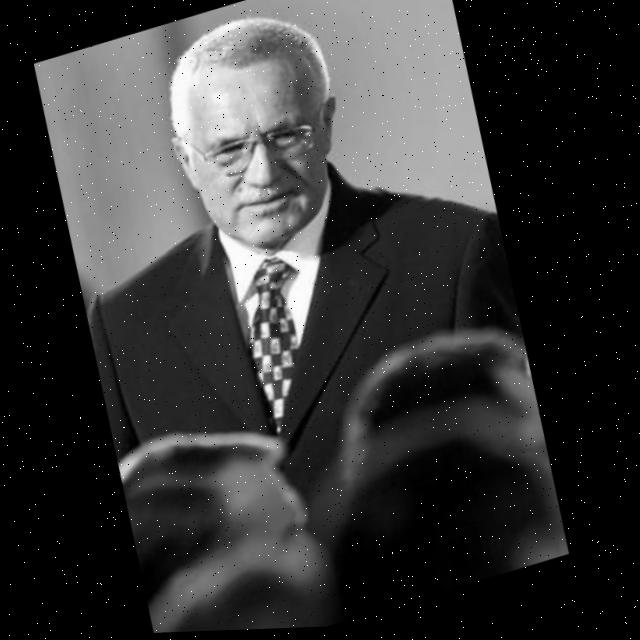face: (153, 3, 365, 277)
